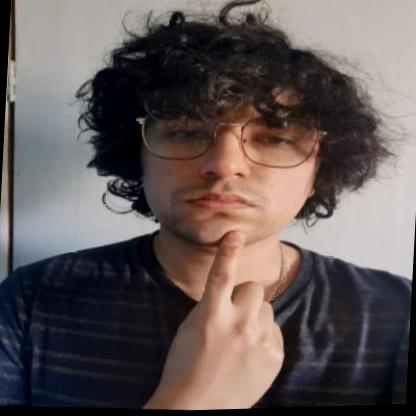T: (164, 224, 291, 412)
